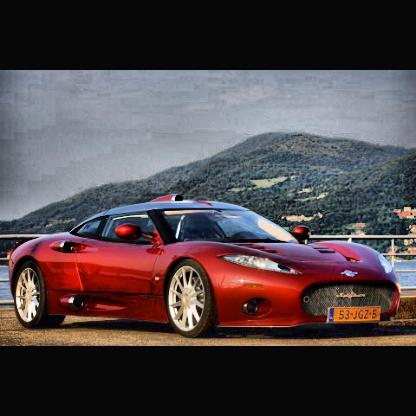Spyker C8 Coupe 2009: (9, 193, 403, 337)
